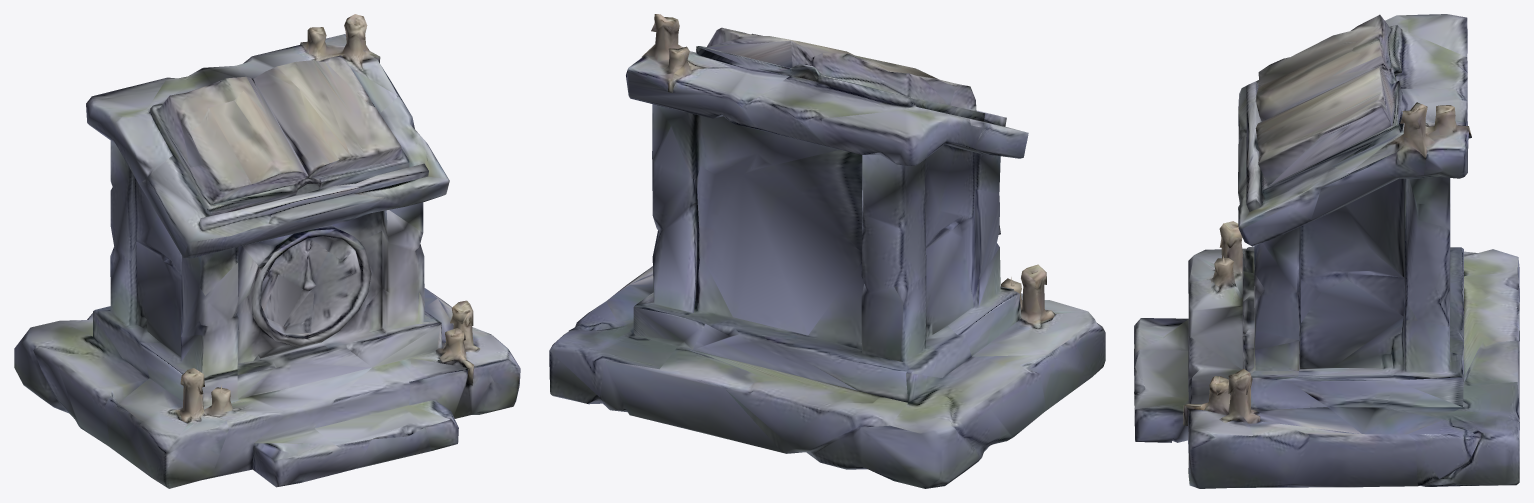
Rendered from dial_altar.glb.
3 renders of one model, left to right at view 1: azimuth 30°, elevation 25°; view 2: azimuth 150°, elevation 25°; view 3: azimuth 270°, elevation 25°, orthographic. The views are drawn at different scales.
Visible parts, largest first — view 1: dial_altar; view 2: dial_altar; view 3: dial_altar.
Part boxes in pixels (bbox=[...]): dial_altar: bbox=[14, 14, 520, 488]; dial_altar: bbox=[549, 14, 1105, 488]; dial_altar: bbox=[1134, 14, 1519, 488].
Size of the model in its own units: 1.82 by 1.59 by 1.57.
Materials: 1 (1 with a texture image).
